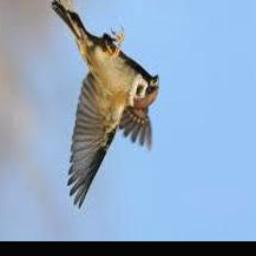Sparrow: (52, 0, 159, 209)
